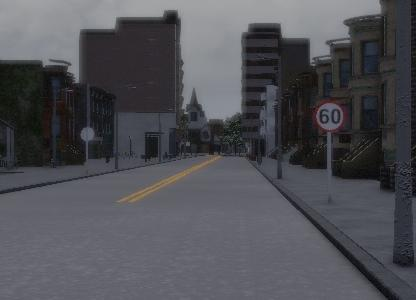Speed_60: (313, 98, 346, 131)
